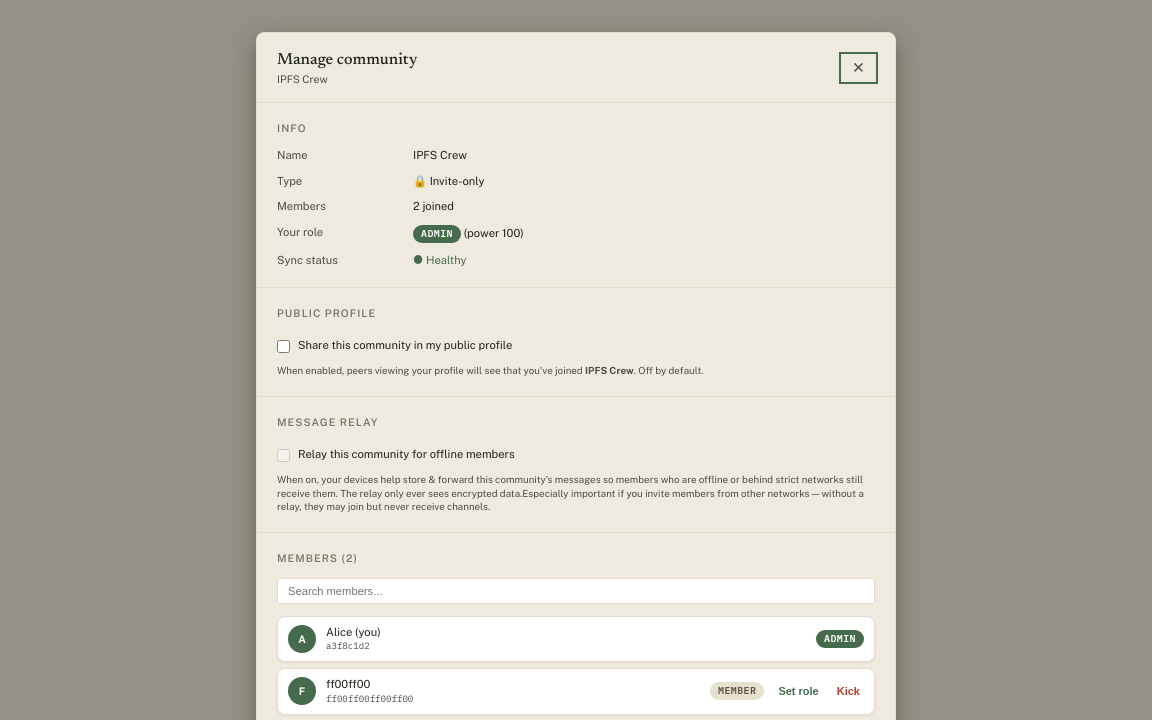
member-action confirmation dialogs resolve names through the ladder (ZEB-957) › kick dialog falls through a blank published name to hex, never a blank label
Click the button with class "kick".
click(848, 691)  # box 833,683 -> 864,699
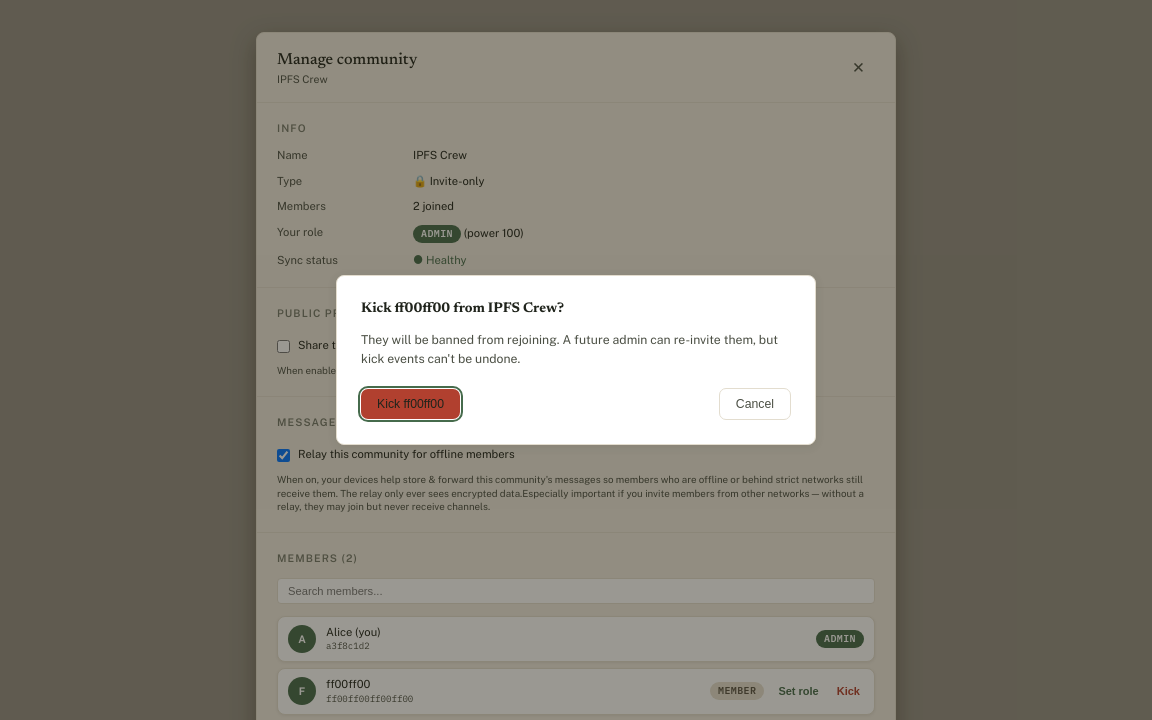
Expected: the button "Kick ff00ff00" is shown, 361,389 -> 460,419
